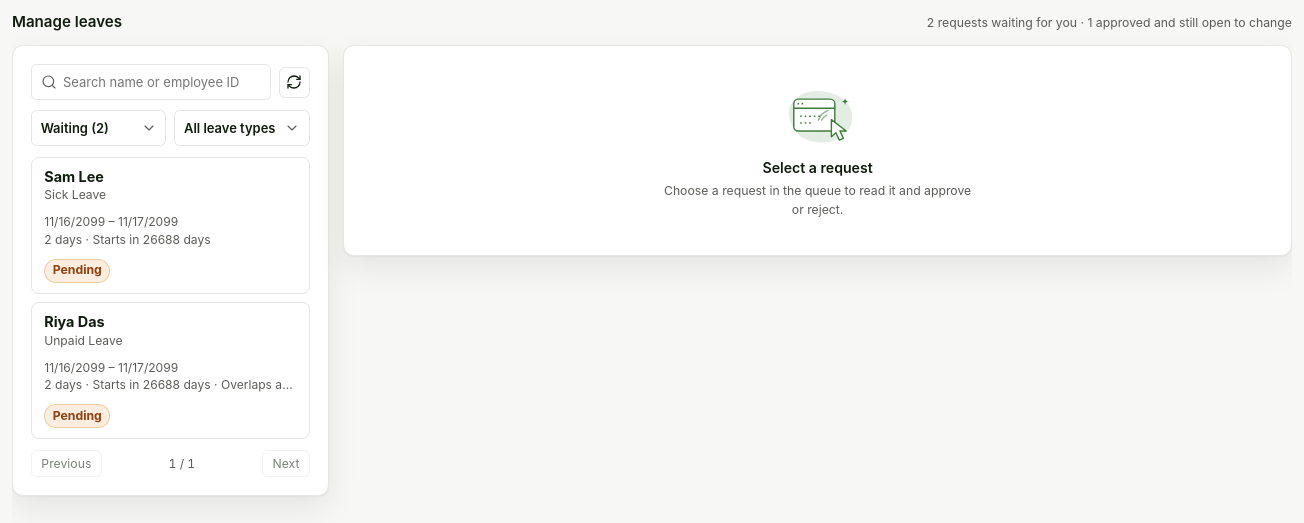
Test: LeaveApprovalWorkspace › lists waiting requests oldest first and opens the clicked one beside the list
Click the text "Sam Lee" at (74, 176), box [44,168,104,185]
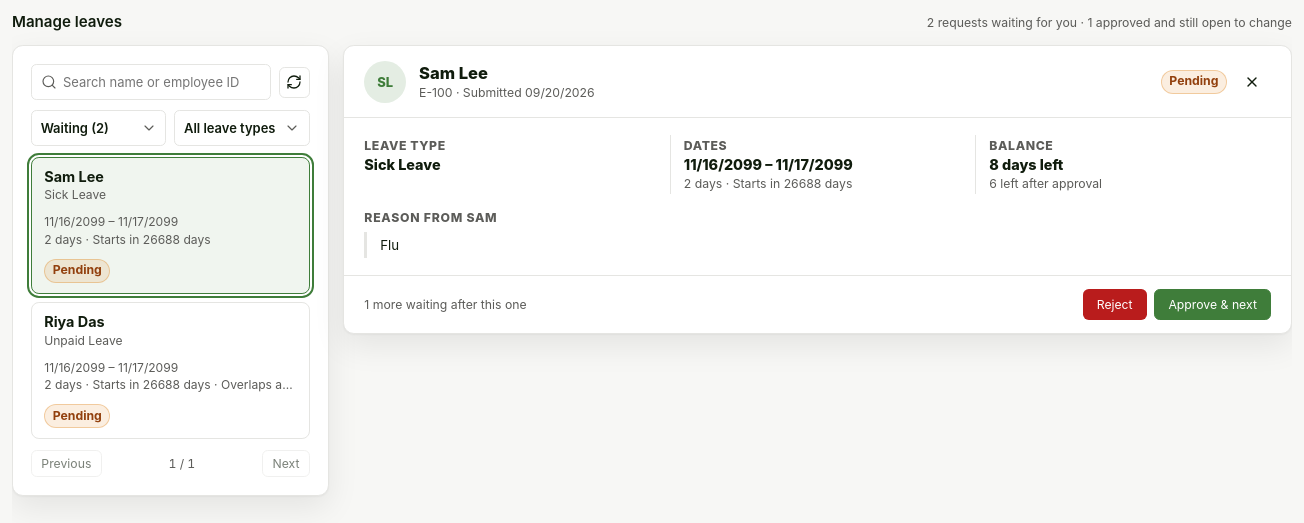
Now the text "8 days left" is shown, box [989,156,1063,173]
Now the text "6 left after approval" is shown, box [989,176,1102,192]
Now the text "Flu" is shown, box [364,232,949,258]
